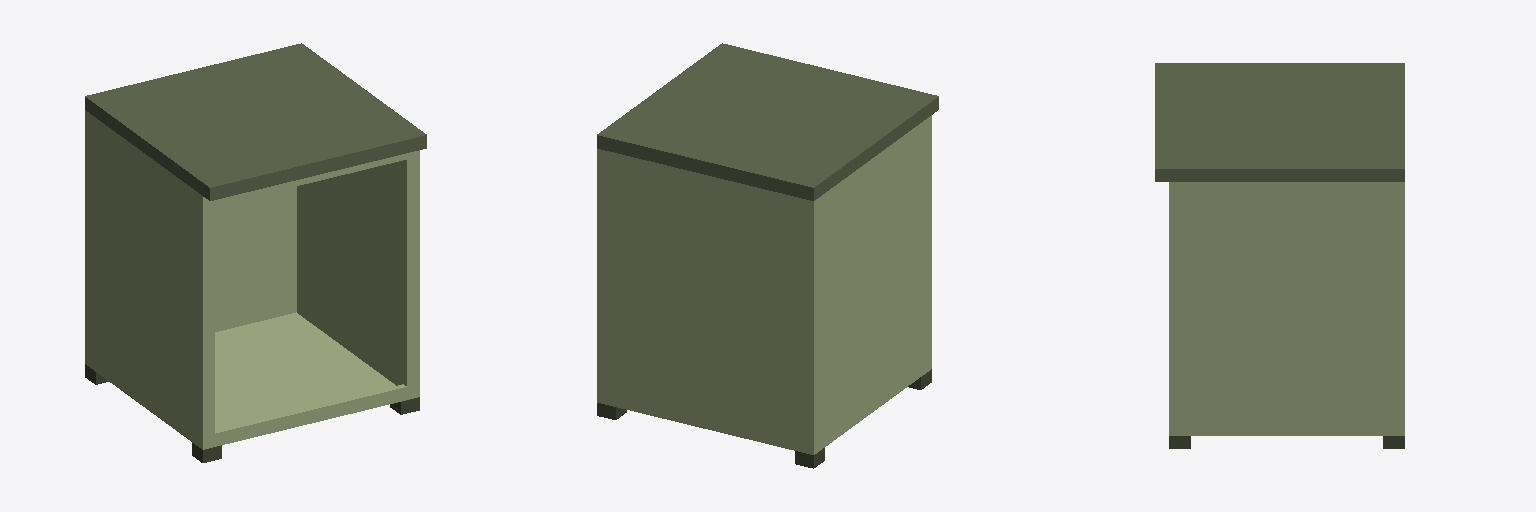
3 views of the same model, side by side, from view 1: azimuth 30°, elevation 25°; view 2: azimuth 150°, elevation 25°; view 3: azimuth 270°, elevation 25° (orthographic).
Visible parts, largest first — view 1: object 1; view 2: object 1; view 3: object 1.
Part boxes in pixels (bbox=[...]): object 1: bbox=[85, 43, 426, 462]; object 1: bbox=[597, 43, 938, 468]; object 1: bbox=[1155, 63, 1404, 448].
Size of the model in its own units: 3.4 by 4.2 by 3.4.
1 materials, 1 textured.